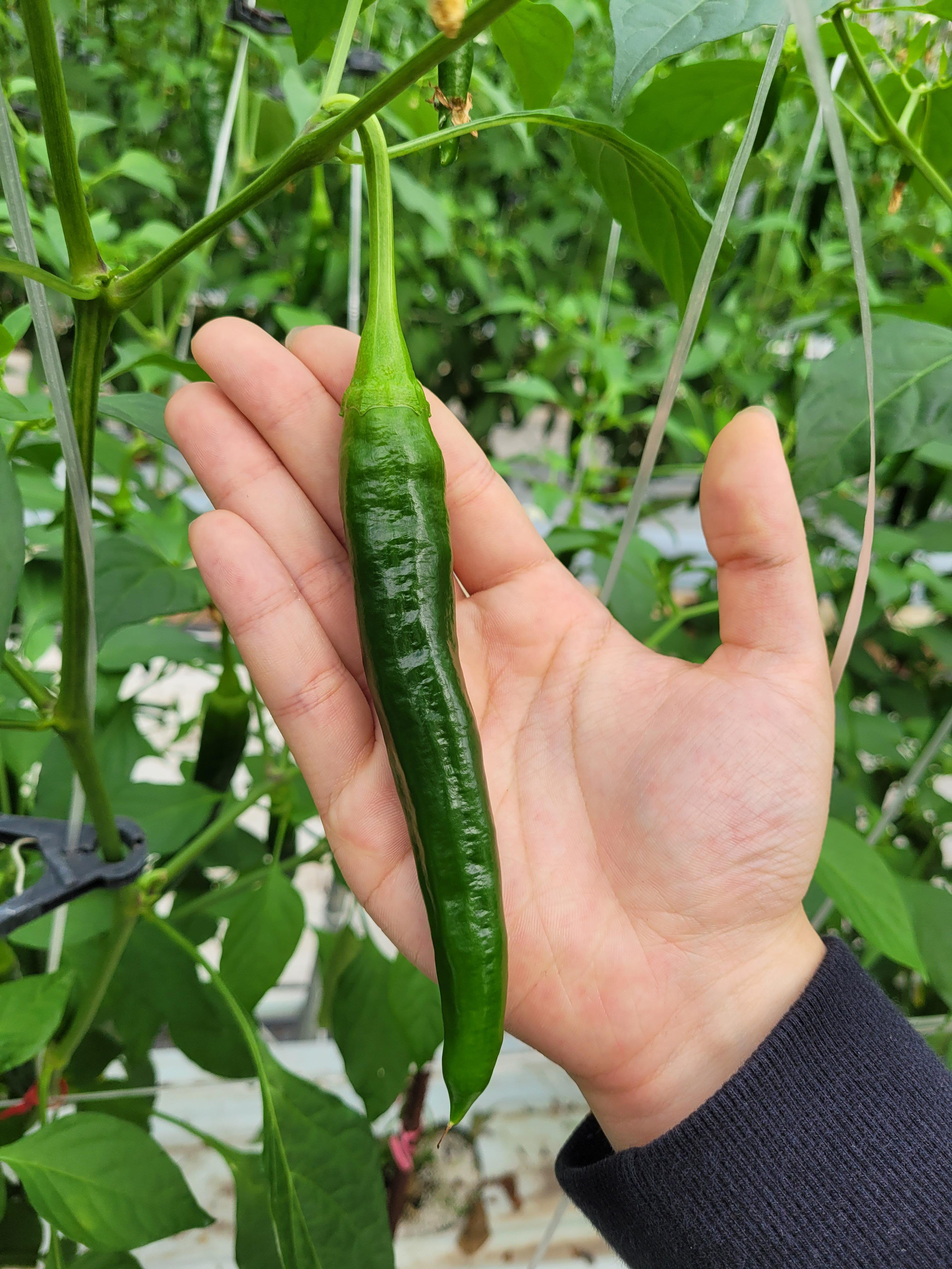Buah Cabai Sehat: (337, 307, 512, 1147)
